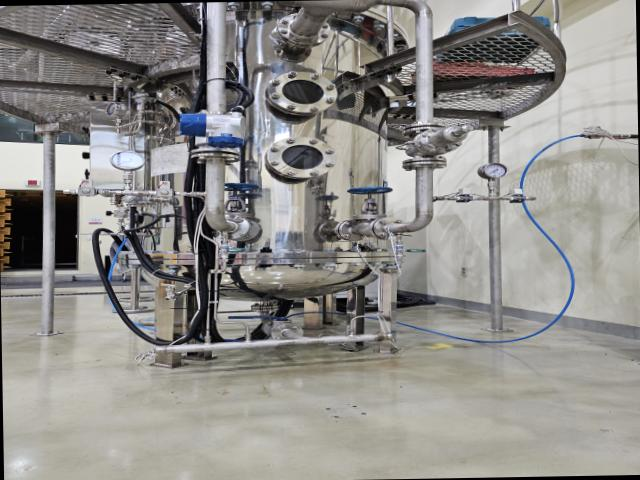Flange: (262, 70, 342, 116), (265, 138, 335, 181)
Flush Ring: (275, 12, 333, 48), (185, 146, 247, 165), (208, 214, 251, 240), (372, 215, 407, 240), (268, 321, 307, 341), (336, 216, 364, 243), (402, 156, 450, 171), (398, 123, 452, 136)
GasRegulator: (104, 92, 176, 138)
Nuts: (70, 184, 107, 200), (502, 192, 536, 206), (150, 186, 182, 200), (449, 192, 481, 206)
Piston Valve: (342, 181, 402, 218), (222, 181, 266, 214)
Pressure Gage: (108, 148, 150, 191), (476, 161, 514, 195)
